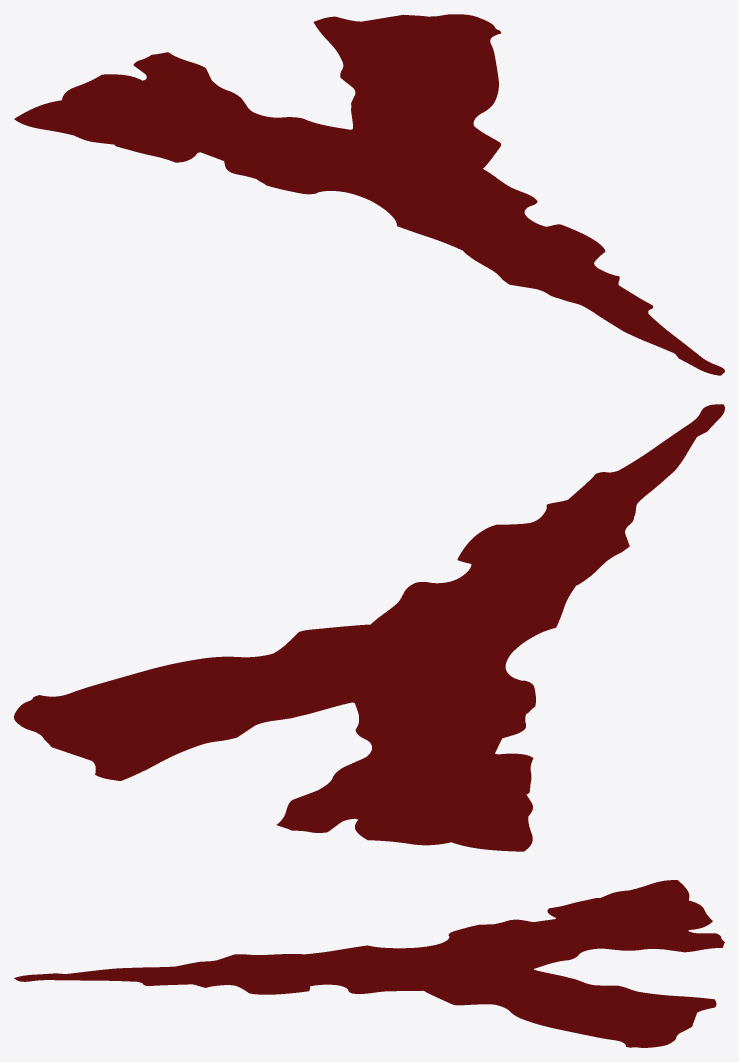
3 renders of one model, top to bottom at view 1: azimuth 30°, elevation 25°; view 2: azimuth 150°, elevation 25°; view 3: azimuth 270°, elevation 25°, orthographic. The views are drawn at different scales.
Parts seen in each view (by area): view 1: Text; view 2: Text; view 3: Text.
Boxes of the visible parts, left/top/right/bottom form: Text: left=14, top=14, right=724, bottom=375; Text: left=14, top=404, right=724, bottom=851; Text: left=14, top=880, right=724, bottom=1047.
Bounding box in the file's own units: 32.35 × 9.43e-06 × 57.88.
